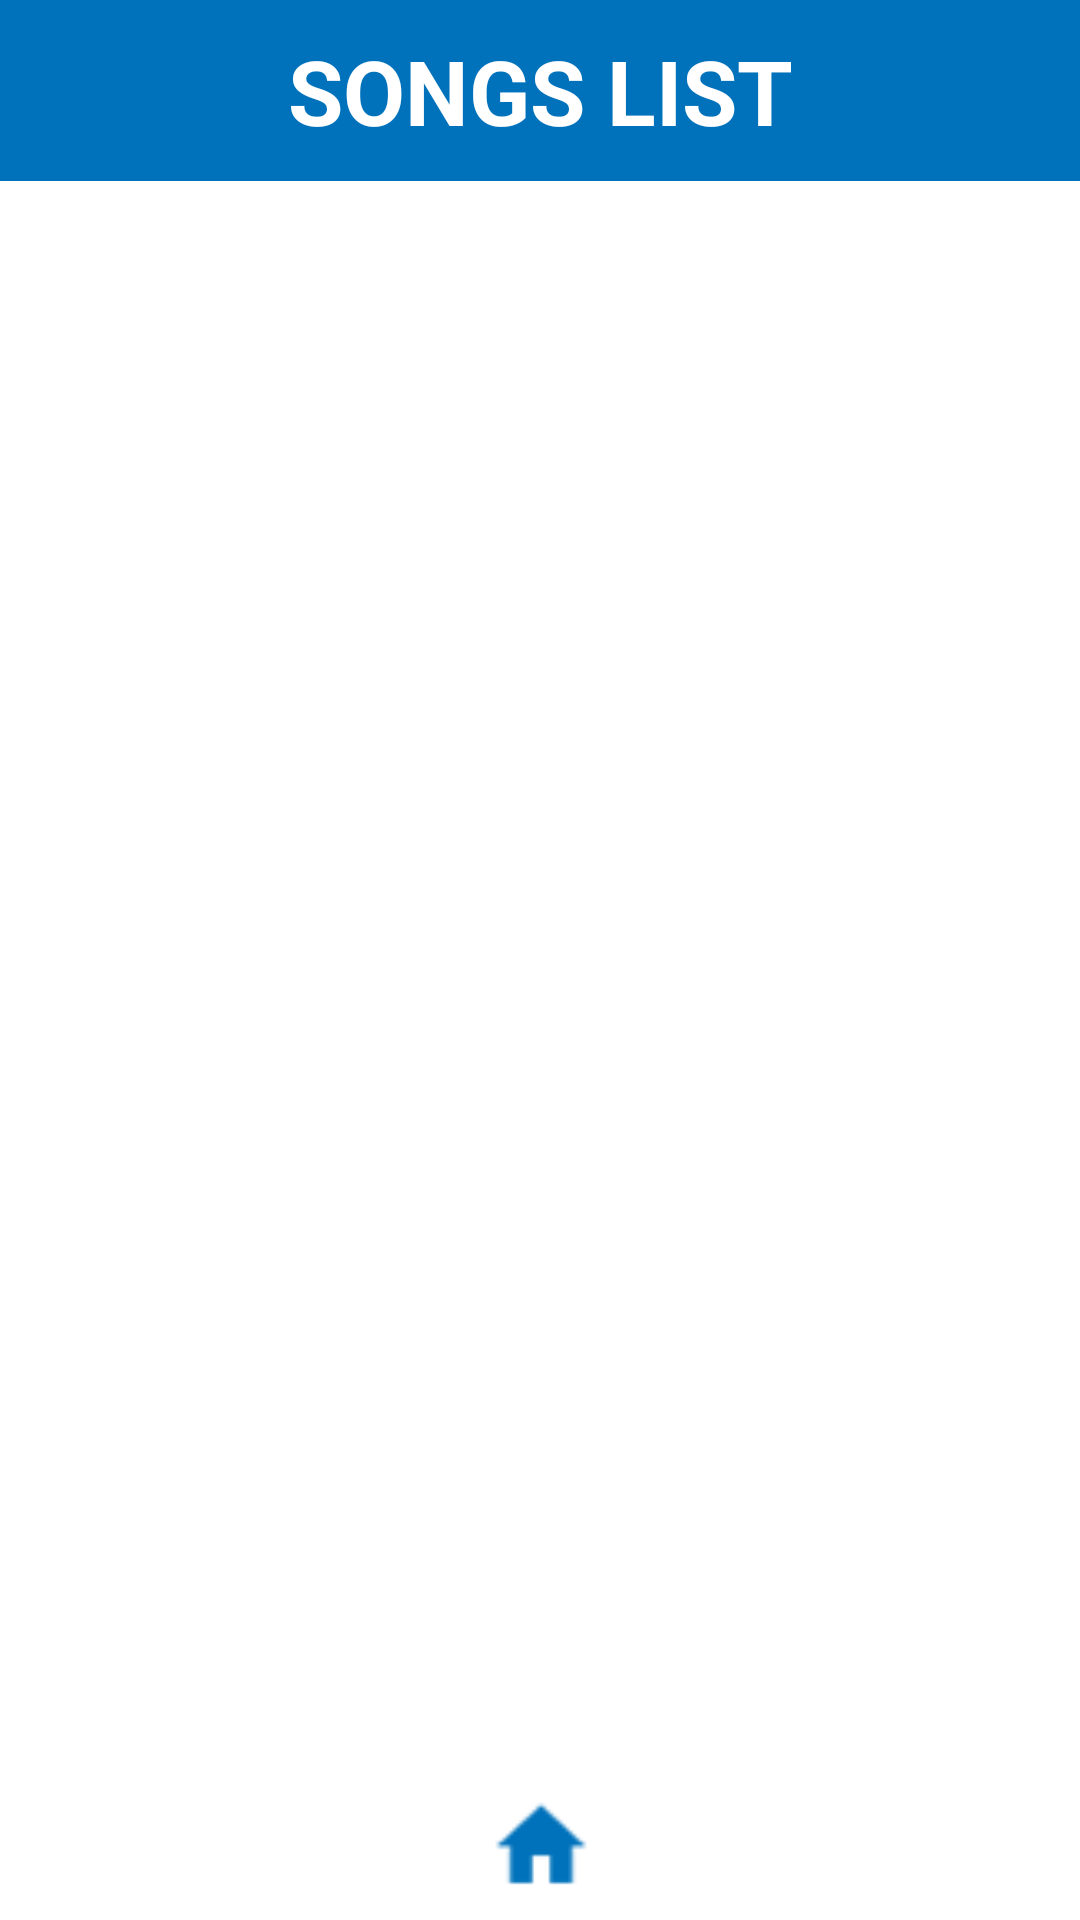

Named icons in this screenshot (1080w x 1920h) and their bounding boxes, (x1, y1, x2, y2):
home: (496, 1803, 586, 1884)
